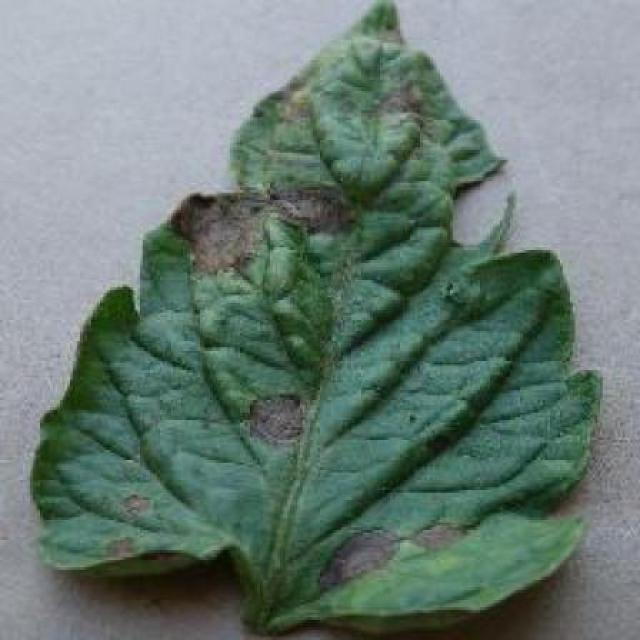Early Blight: (21, 5, 604, 640)
